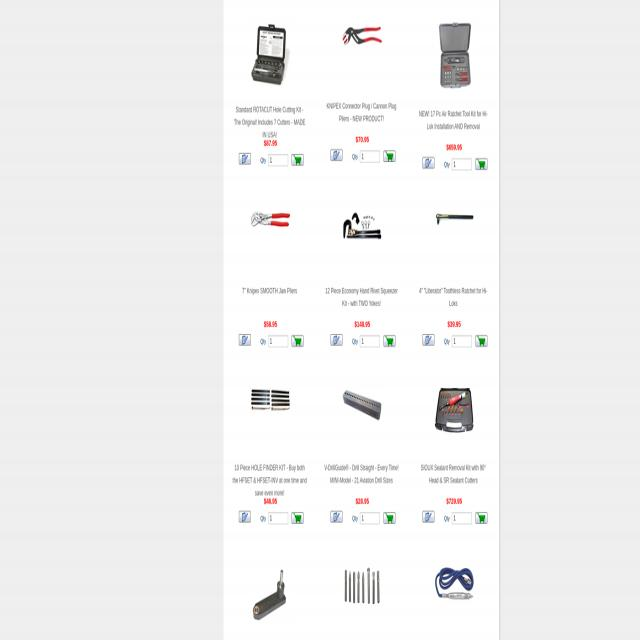button: (436, 18, 472, 90), (250, 22, 290, 86), (434, 388, 474, 434), (250, 570, 290, 616), (342, 565, 382, 606), (434, 565, 474, 602), (342, 388, 382, 421), (342, 211, 382, 243), (250, 388, 290, 411), (342, 26, 382, 45), (434, 211, 474, 228), (250, 211, 290, 227), (384, 150, 396, 162), (238, 153, 250, 165), (292, 154, 304, 166), (422, 157, 434, 169), (475, 158, 487, 170), (239, 334, 251, 346), (330, 334, 342, 346), (422, 334, 434, 346), (292, 335, 304, 347), (384, 335, 396, 347), (474, 335, 486, 347), (292, 512, 304, 524), (384, 512, 396, 524), (475, 512, 487, 524), (330, 150, 342, 161), (239, 511, 251, 522), (330, 511, 342, 522), (422, 511, 434, 522)
field: (268, 154, 288, 166), (268, 335, 288, 347), (360, 335, 380, 347), (452, 335, 472, 347), (268, 512, 288, 524), (360, 512, 380, 524), (452, 512, 472, 524), (360, 151, 380, 162), (452, 159, 472, 170)
